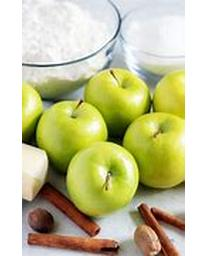apple: (65, 141, 139, 216), (34, 99, 107, 173), (122, 112, 185, 189), (82, 67, 150, 136)
